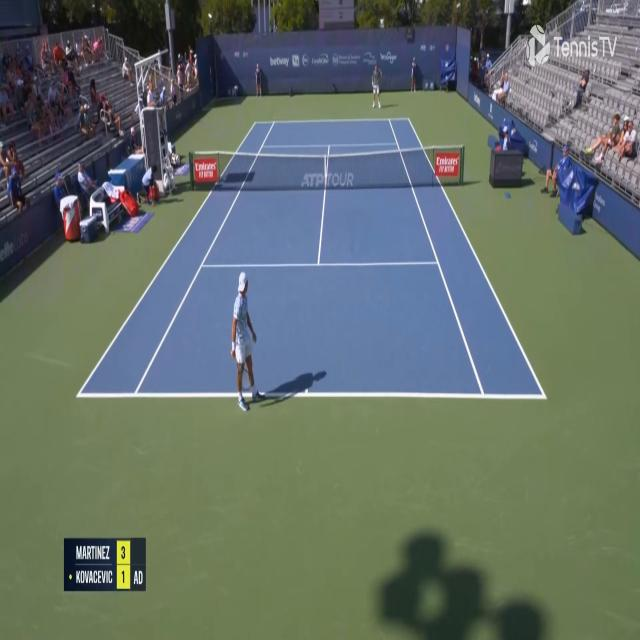tennis-player: (229, 268, 266, 416), (371, 62, 383, 109)
